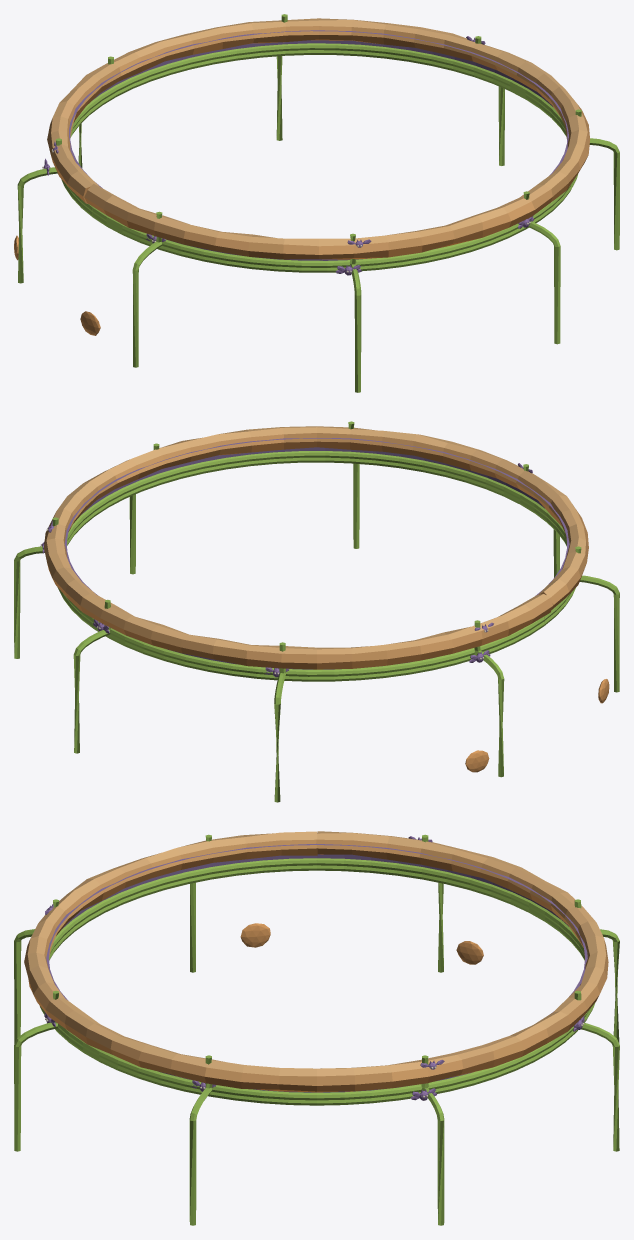
The model's file is goo_jar_trim_1_mid@haunted.fbx.
The picture shows the model from 3 angles, top to bottom: view 1: azimuth 30°, elevation 25°; view 2: azimuth 150°, elevation 25°; view 3: azimuth 270°, elevation 25°; orthographic projection. The views are drawn at different scales.
Visible parts, largest first — view 1: goo_jar_trim_1_mid; view 2: goo_jar_trim_1_mid; view 3: goo_jar_trim_1_mid.
Boxes of the visible parts, x1,y1,x2,y2 form: goo_jar_trim_1_mid: (14, 14, 619, 392); goo_jar_trim_1_mid: (14, 421, 619, 802); goo_jar_trim_1_mid: (14, 831, 619, 1225).
Size of the model in its own units: 60.32 by 16.05 by 58.31.
